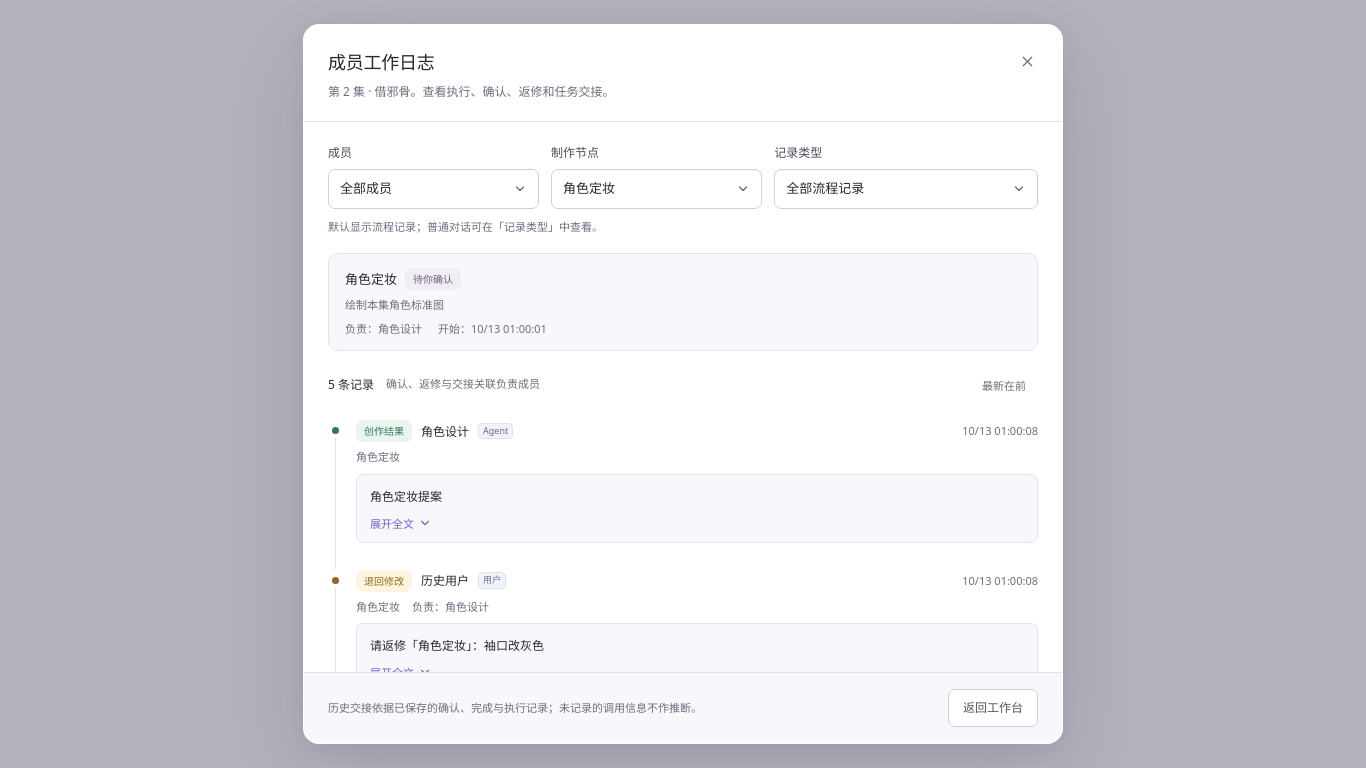
Agent activity dialog › shows node state, supports no-match reset and lazily renders full Markdown output
Expected: the element named "节点当前状态" is shown, [328,253,1038,351]
Click the dropdown labelled "成员" at (434, 189), box [328,169,539,209]
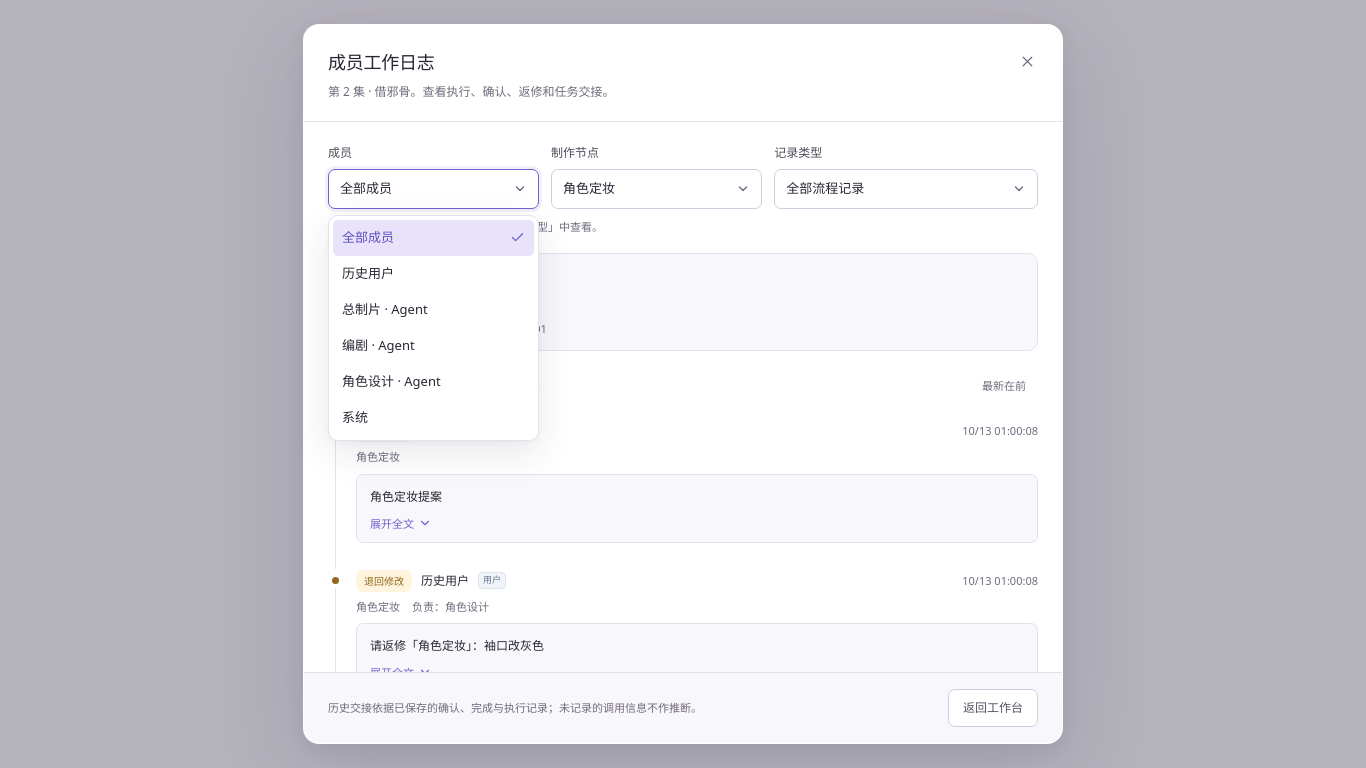
Click the option "编剧 · Agent" at (378, 345), box [342,336,415,354]
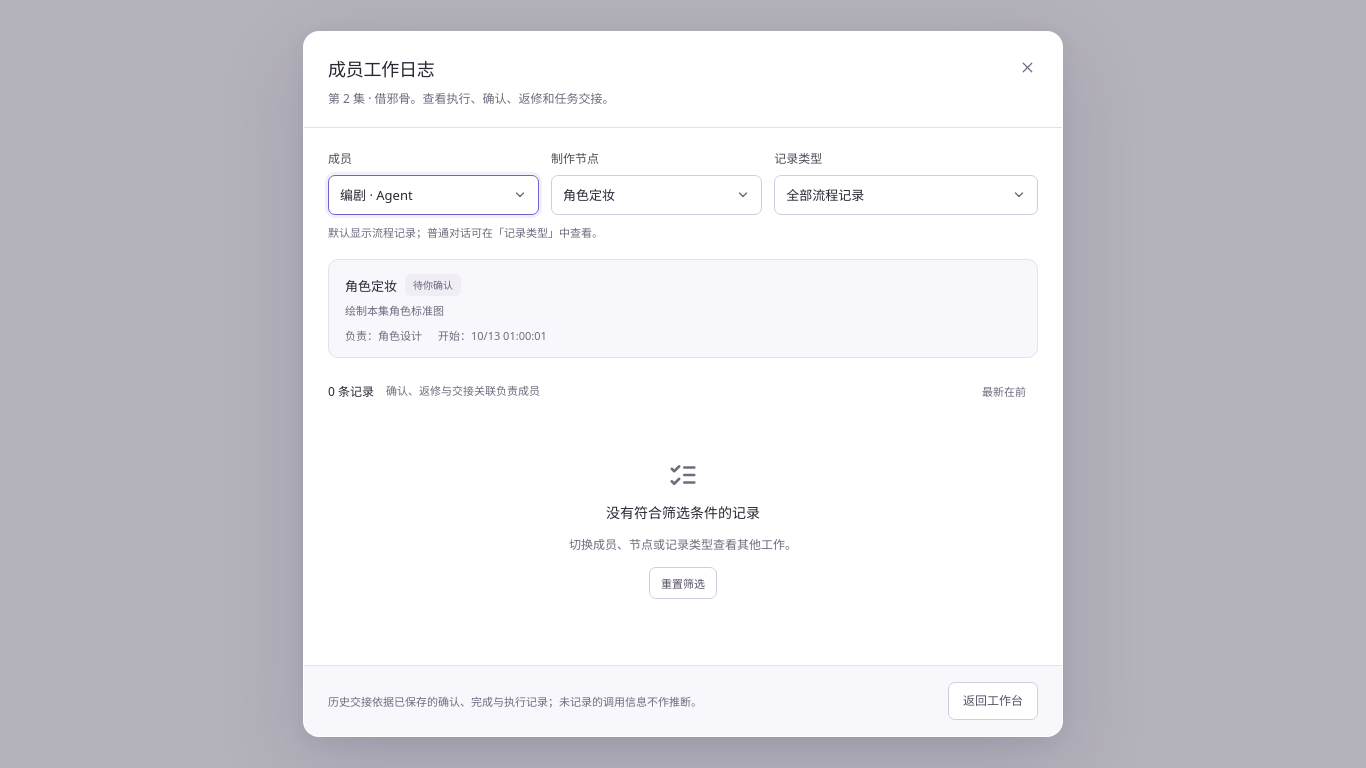
Expected: the text "没有符合筛选条件的记录" is shown, [606,502,760,522]
Click the button "重置筛选" at (683, 583), box [649,567,717,599]
(page scrolled)
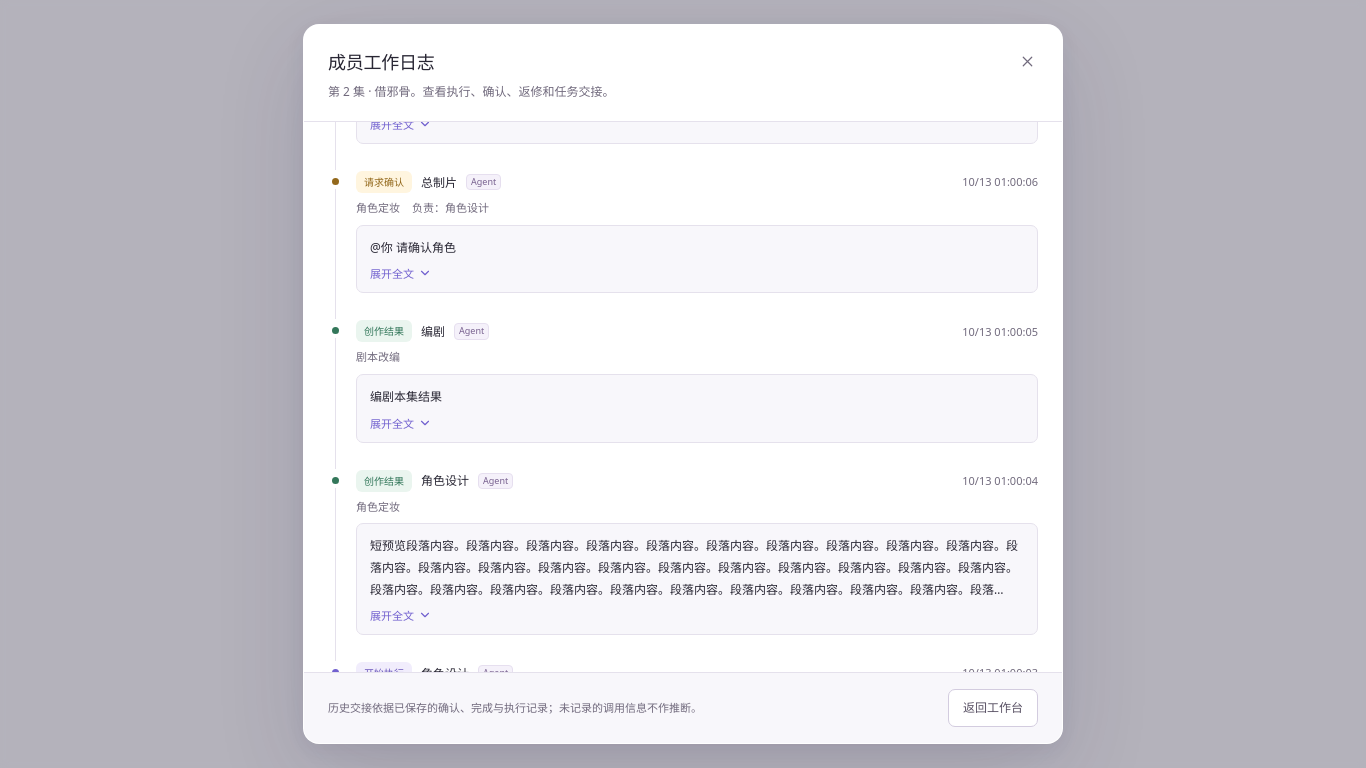
Expected: the text "编剧本集结果" is shown, [370,388,442,405]
